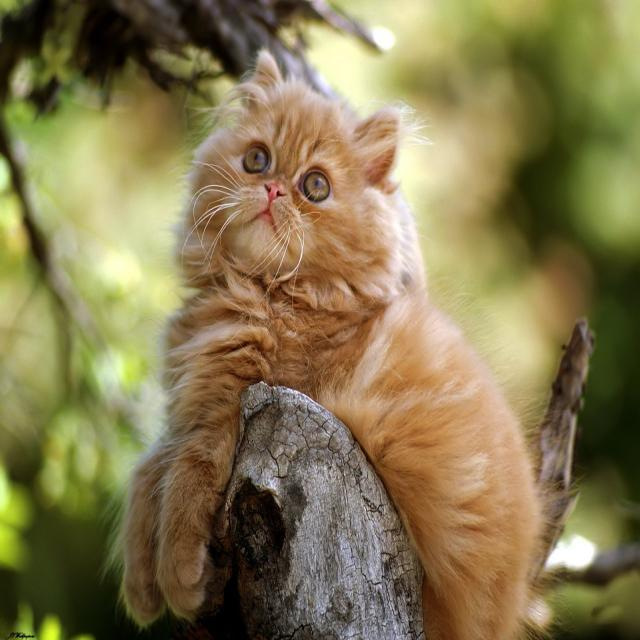Persian: (178, 44, 402, 295)
